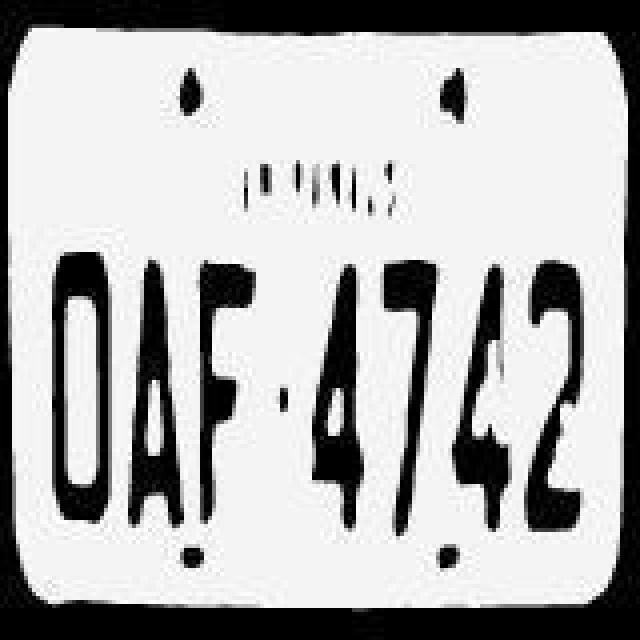2: (522, 246, 598, 538)
4: (306, 250, 382, 534), (446, 228, 514, 524)
7: (382, 238, 450, 530)
A: (128, 268, 192, 548)
F: (196, 262, 268, 546)
O: (36, 254, 124, 546)
